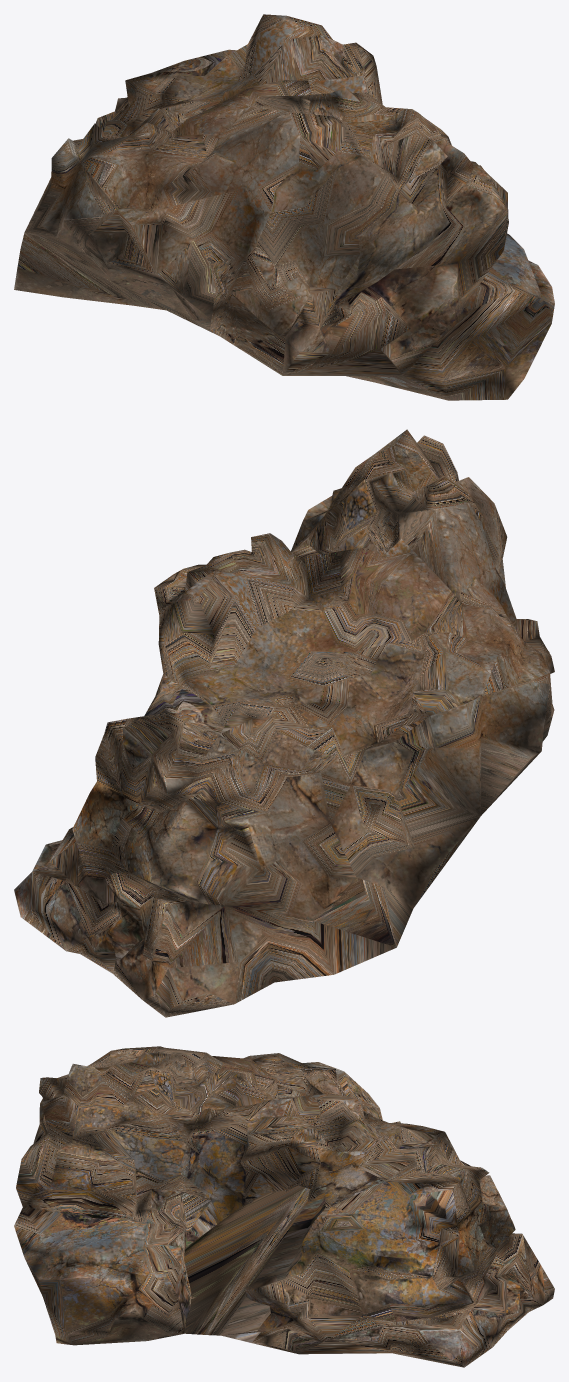
3 views of the same model, one above another, from view 1: azimuth 30°, elevation 25°; view 2: azimuth 150°, elevation 25°; view 3: azimuth 270°, elevation 25° (orthographic). The views are drawn at different scales.
Parts seen in each view (by area): view 1: boulder_01-0; view 2: boulder_01-0; view 3: boulder_01-0.
Part boxes in pixels (<box>): boulder_01-0: <box>14,14,554,400</box>; boulder_01-0: <box>14,429,554,1017</box>; boulder_01-0: <box>14,1046,554,1367</box>.
Bounding box in the file's own units: 1.26 × 0.9765 × 1.81.
1 material, 1 textured.
